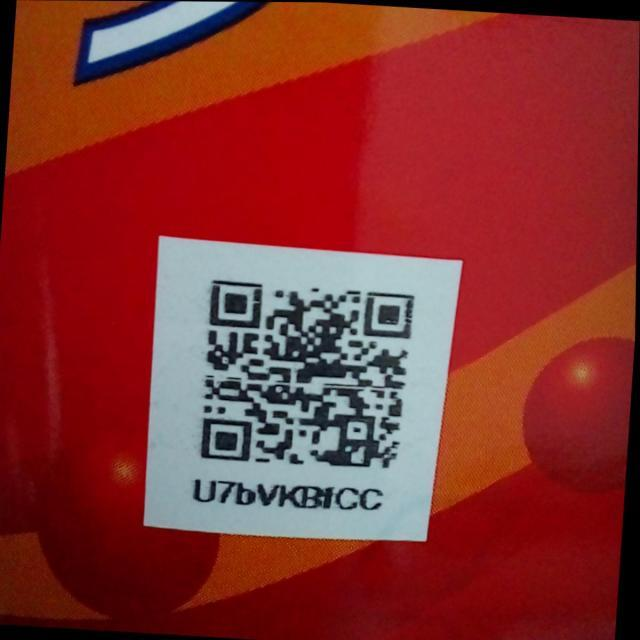QRCode: (190, 269, 421, 480)
